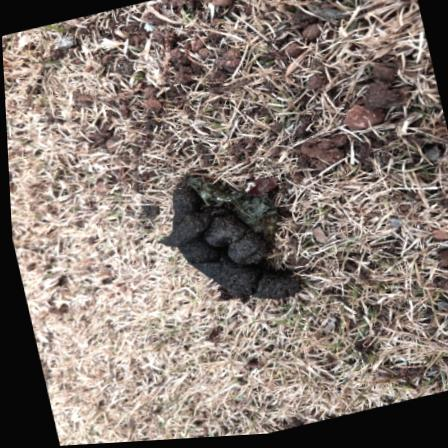dog-poop: (138, 155, 305, 332)
